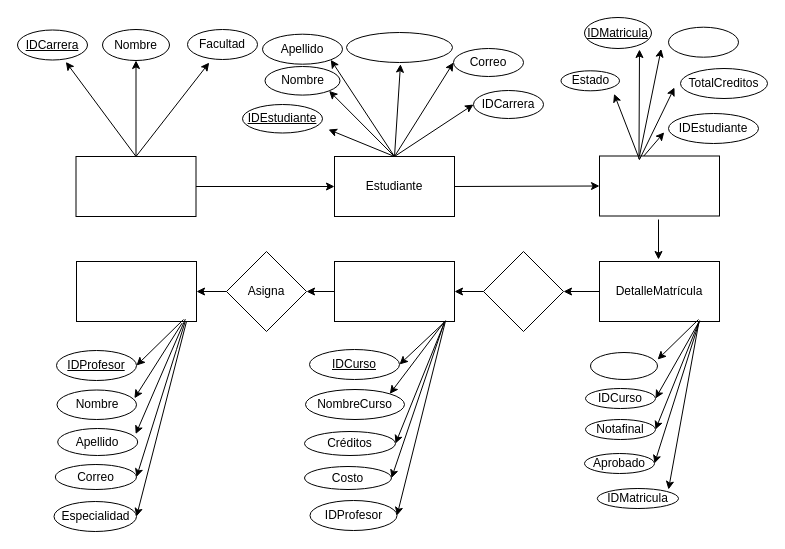
The diagram is 785 pixels wide and 549 high, and some of its shapes have lost their labels. Each missing label, with the box of its shape:
Carrera: (75, 156, 196, 216)
Curso: (334, 260, 454, 322)
FechaNacimiento: (346, 32, 452, 62)
IDDetalle: (590, 352, 658, 380)
Matricula: (598, 155, 720, 216)
Periodo: (668, 26, 738, 57)
Profersor: (76, 260, 196, 322)
Tiene: (482, 250, 564, 332)
